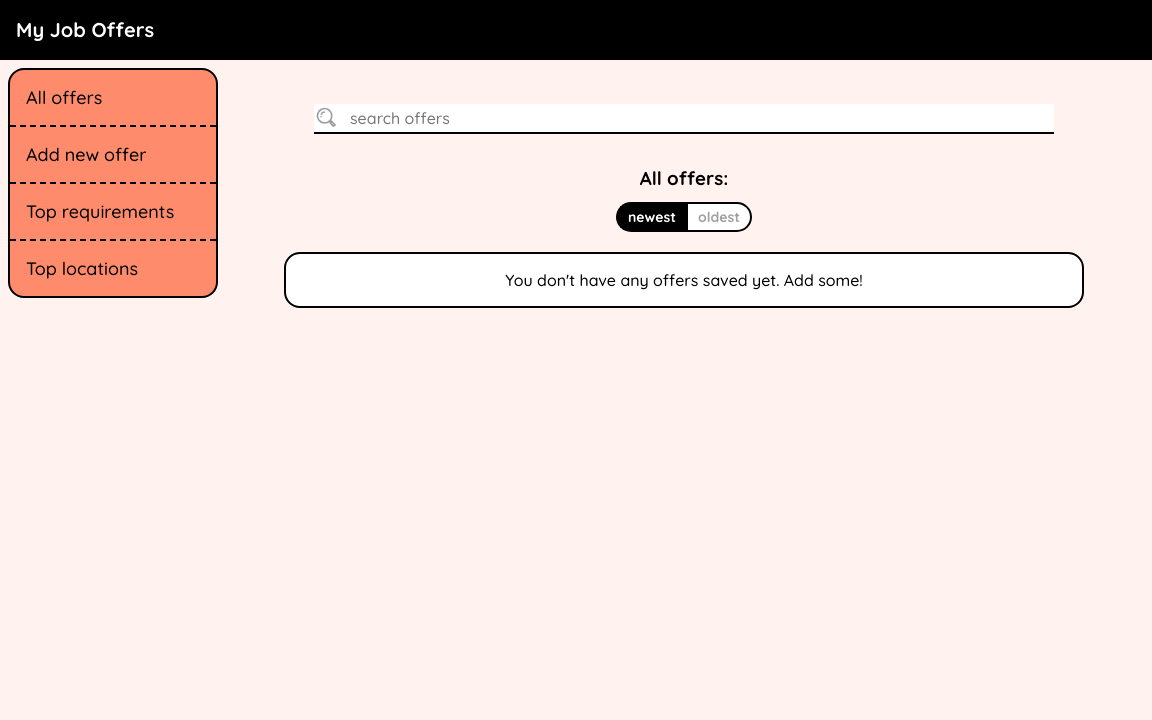
Test: navigation works › redirects to 'add new offer' page
Click the link "Add new offer" at [113, 156], box [10, 127, 216, 184]
(page scrolled)
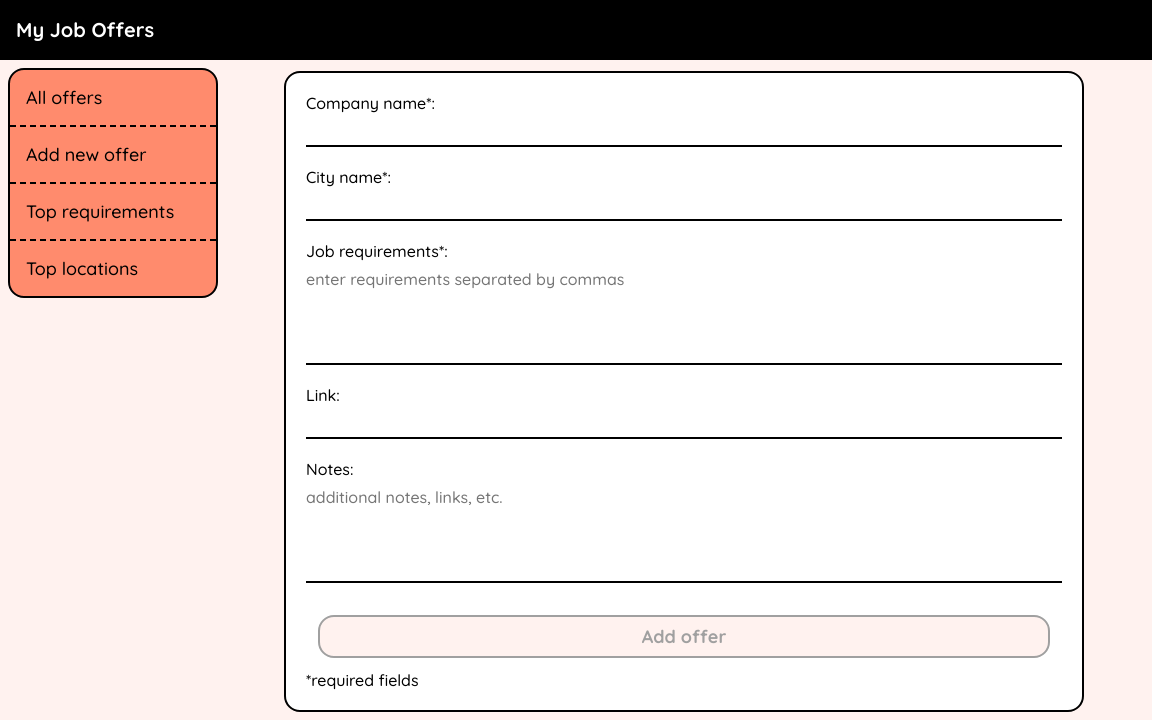
Now the text "*required fields" is shown, box [306, 670, 418, 690]
